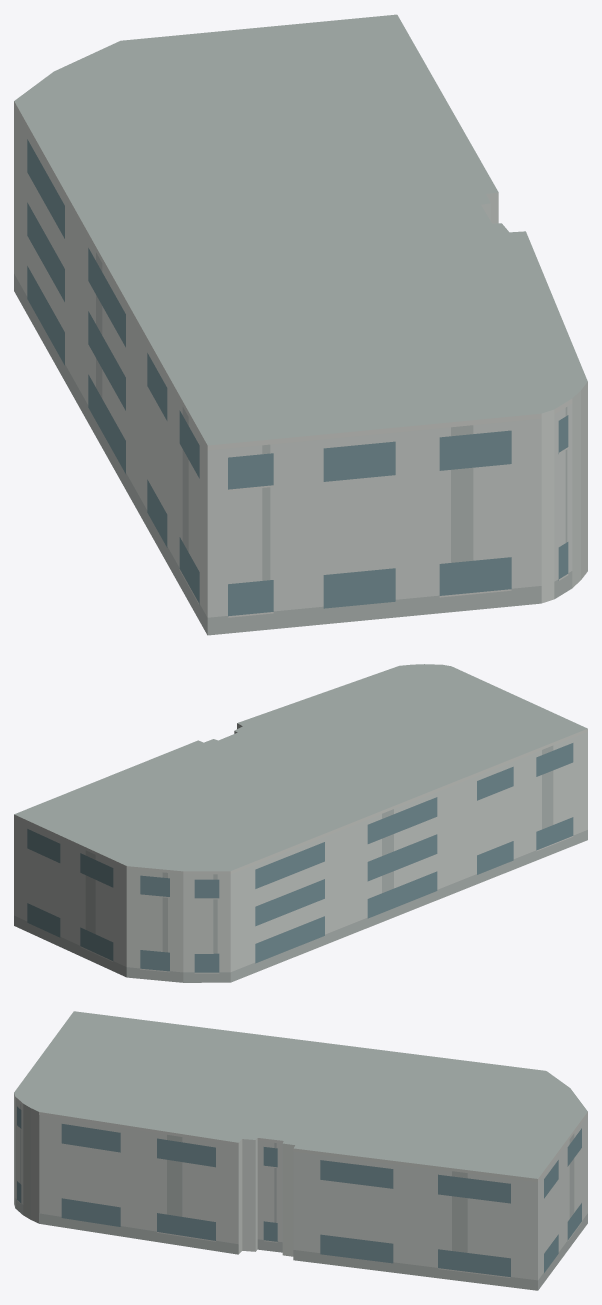
The model's file is survey-upis-32732759.glb.
3 renders of one model, top to bottom at view 1: azimuth 30°, elevation 25°; view 2: azimuth 150°, elevation 25°; view 3: azimuth 270°, elevation 25°, orthographic. The views are drawn at different scales.
Parts seen in each view (by area): view 1: survey-upis-32732759.tmp; view 2: survey-upis-32732759.tmp; view 3: survey-upis-32732759.tmp.
Boxes of the visible parts, x1,y1,x2,y2 form: survey-upis-32732759.tmp: [14, 14, 587, 635]; survey-upis-32732759.tmp: [14, 664, 587, 982]; survey-upis-32732759.tmp: [14, 1011, 587, 1290].
Size of the model in its own units: 29.45 by 9.15 by 42.56.
